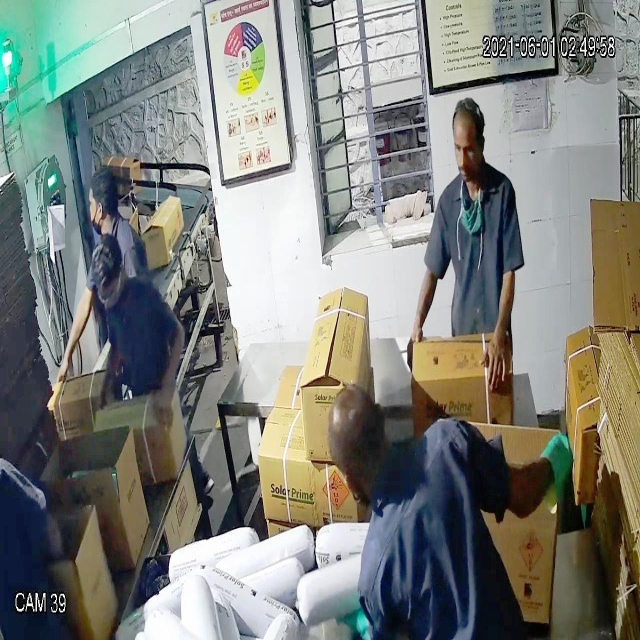Gafas: (92, 276, 126, 312)
Sin_gafas: (447, 130, 489, 164)
